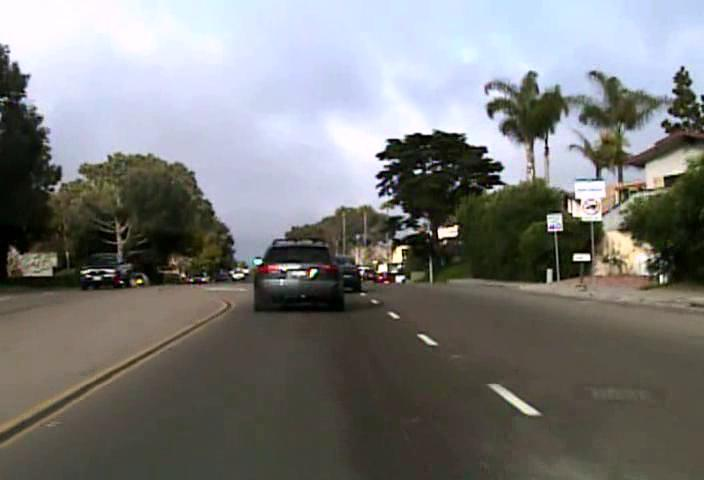speedLimit40: (546, 212, 563, 232)
